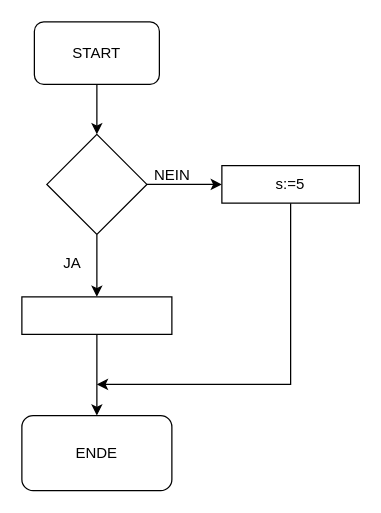
Some shapes in this 381 by 513 pixel diagram are drawn without their labels. The centre of each missing label's shape, as x and y in pixels:
"s = 2 ?" belongs at point 96,183.
"s:=f(s-1, s)" belongs at point 96,315.
